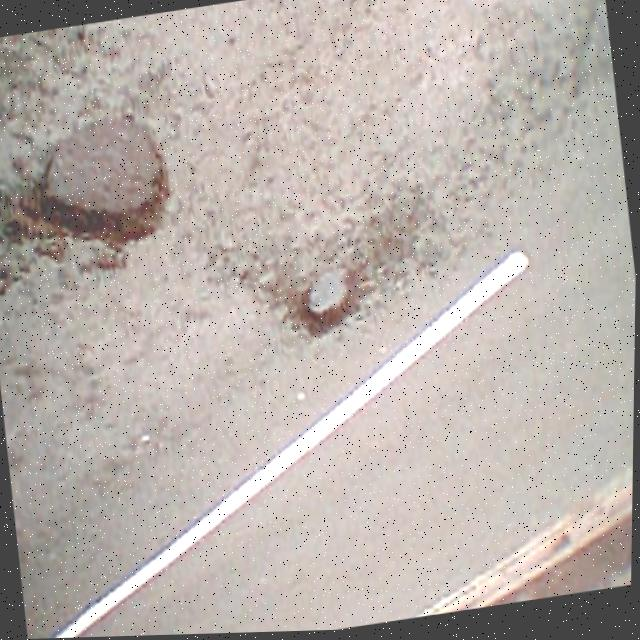Pothole: (24, 95, 179, 278), (297, 253, 361, 353)
